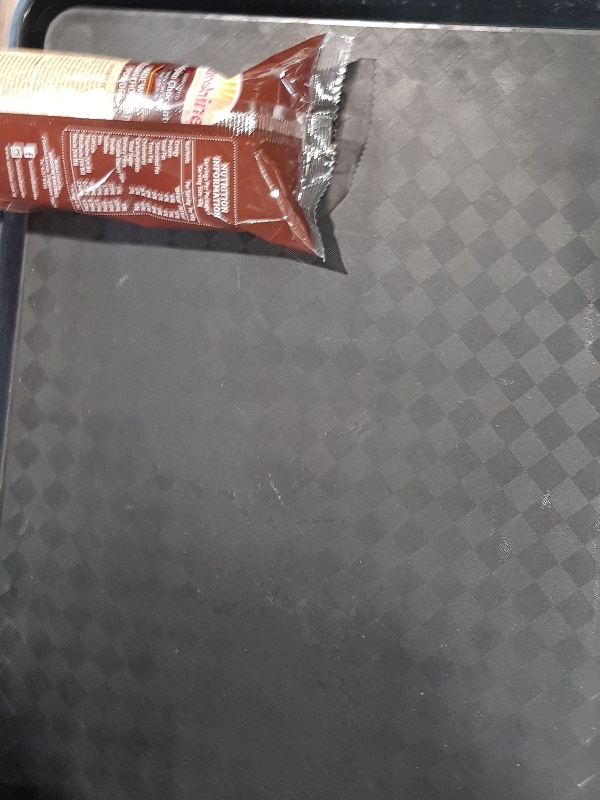Sunshine Belgium Chocolate Wholemeal Cream Bun: (1, 29, 356, 266)
